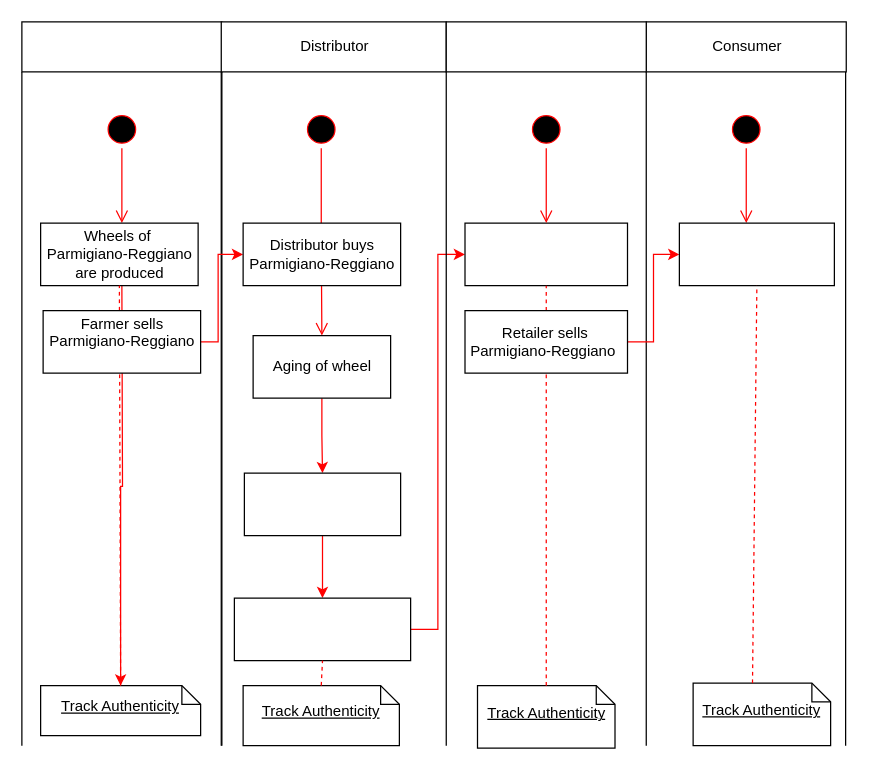
Some shapes in this 869 by 770 pixel diagram are drawn without their labels. The centre of each missing label's shape, as x and y in pixels:
"Buy slice of Parmigiano-Reggiano" goes at point 756,254.
"Dairy Farms" goes at point 121,46.
"Retailer" goes at point 545,46.
"Retailer buys Parmigiano-Reggiano" goes at point 546,254.
"Sell Parmigiano" goes at point 322,629.
"Wheels are processed & packaged" goes at point 322,504.
